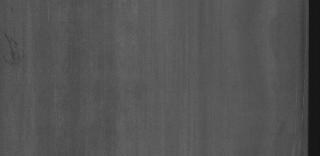water spot: (2, 28, 30, 65)
